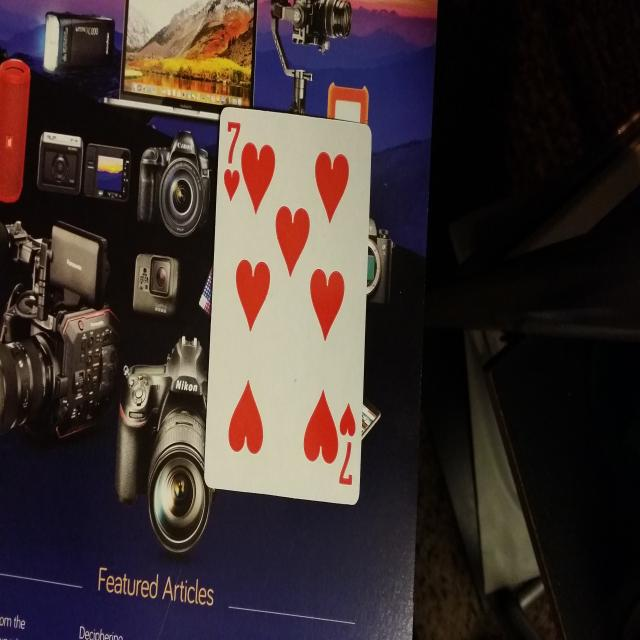7h: (331, 386, 357, 498), (220, 111, 248, 208)
